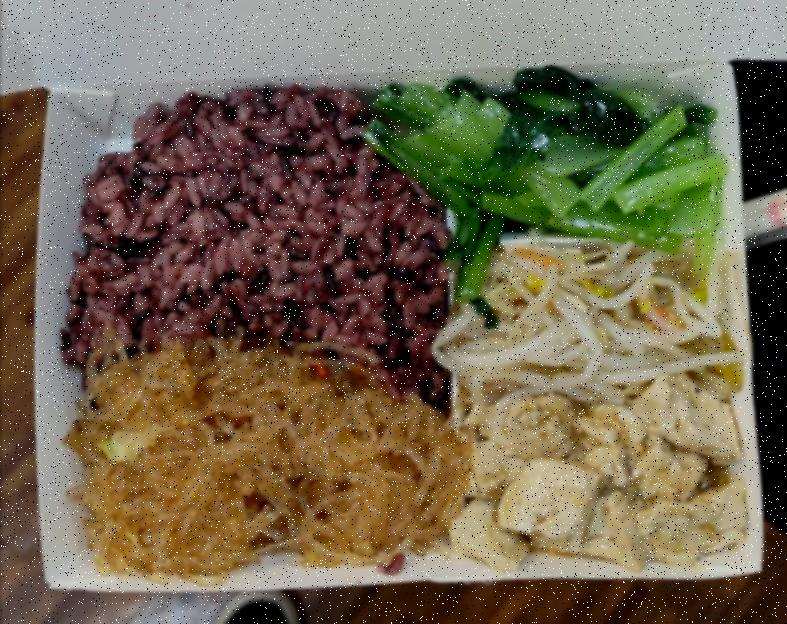box: (6, 61, 778, 608)
purple rice: (61, 82, 454, 411)
side dish: (49, 358, 467, 566), (451, 393, 749, 571), (388, 83, 718, 233), (434, 245, 730, 404)
